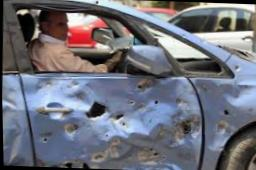Door: (5, 0, 204, 170), (1, 73, 34, 167)
Fender: (188, 55, 256, 170)
